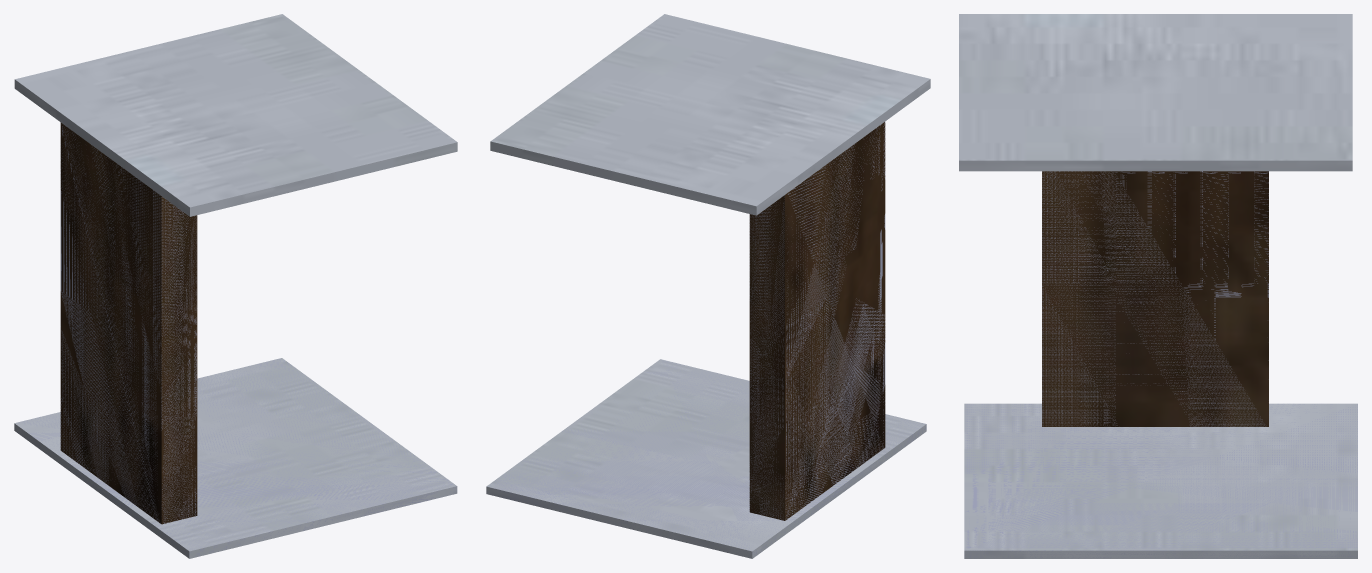
3 renders of one model, left to right at view 1: azimuth 30°, elevation 25°; view 2: azimuth 150°, elevation 25°; view 3: azimuth 270°, elevation 25°, orthographic. The views are drawn at different scales.
Visible parts, largest first — view 1: SketchUp (×3); view 2: SketchUp (×3); view 3: SketchUp (×3).
Boxes of the visible parts, box(x1,y1,x2,y2) form: SketchUp (×3): box(14, 14, 457, 558); SketchUp (×3): box(486, 14, 930, 558); SketchUp (×3): box(959, 14, 1357, 558).
Bounding box in the file's own units: 15.1 × 17.23 × 18.93.
4 materials, 3 textured.
